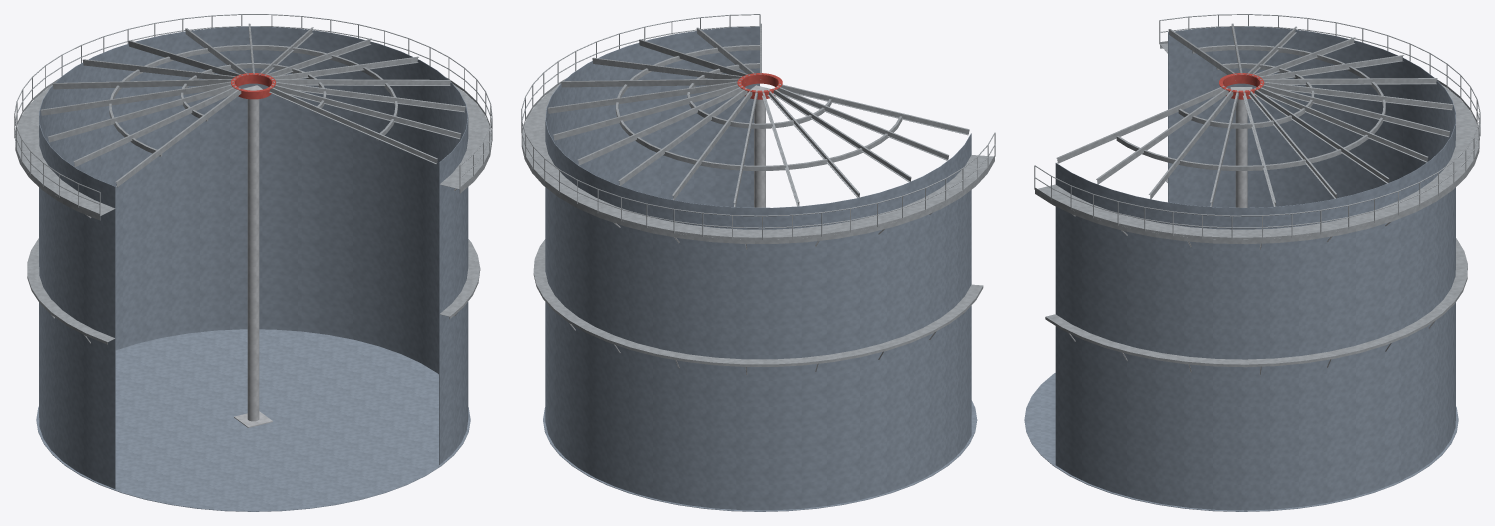
The model's file is storage-tank-supports-and-wind-girders.glb.
3 renders of one model, left to right at view 1: azimuth 30°, elevation 25°; view 2: azimuth 150°, elevation 25°; view 3: azimuth 270°, elevation 25°, orthographic.
Visible parts, largest first — view 1: TankShell(context), RoofRafters&Girders, PrimaryWindGirder, CentreColumn, IntermediateWindGirder, CrownRing; view 2: TankShell(context), RoofRafters&Girders, PrimaryWindGirder, IntermediateWindGirder, CentreColumn, CrownRing; view 3: TankShell(context), RoofRafters&Girders, PrimaryWindGirder, IntermediateWindGirder, CentreColumn, CrownRing.
Part boxes in pixels (box(x1,y1,x2,y2)): TankShell(context): box(36, 26, 470, 511); RoofRafters&Girders: box(40, 23, 465, 187); PrimaryWindGirder: box(14, 14, 492, 220); CentreColumn: box(234, 85, 272, 427); IntermediateWindGirder: box(27, 238, 480, 344); CrownRing: box(231, 73, 275, 99); TankShell(context): box(543, 26, 977, 511); RoofRafters&Girders: box(547, 23, 969, 207); PrimaryWindGirder: box(521, 14, 995, 243); IntermediateWindGirder: box(533, 239, 983, 366); CentreColumn: box(750, 85, 770, 207); CrownRing: box(737, 73, 782, 99); TankShell(context): box(1024, 26, 1458, 511); RoofRafters&Girders: box(1056, 23, 1453, 206); PrimaryWindGirder: box(1034, 14, 1480, 244); IntermediateWindGirder: box(1045, 178, 1467, 367); CentreColumn: box(1230, 87, 1252, 207); CrownRing: box(1219, 73, 1264, 99).
Bounding box in the file's own units: 20.03 × 15.62 × 19.12.
4 materials, 4 textured.
